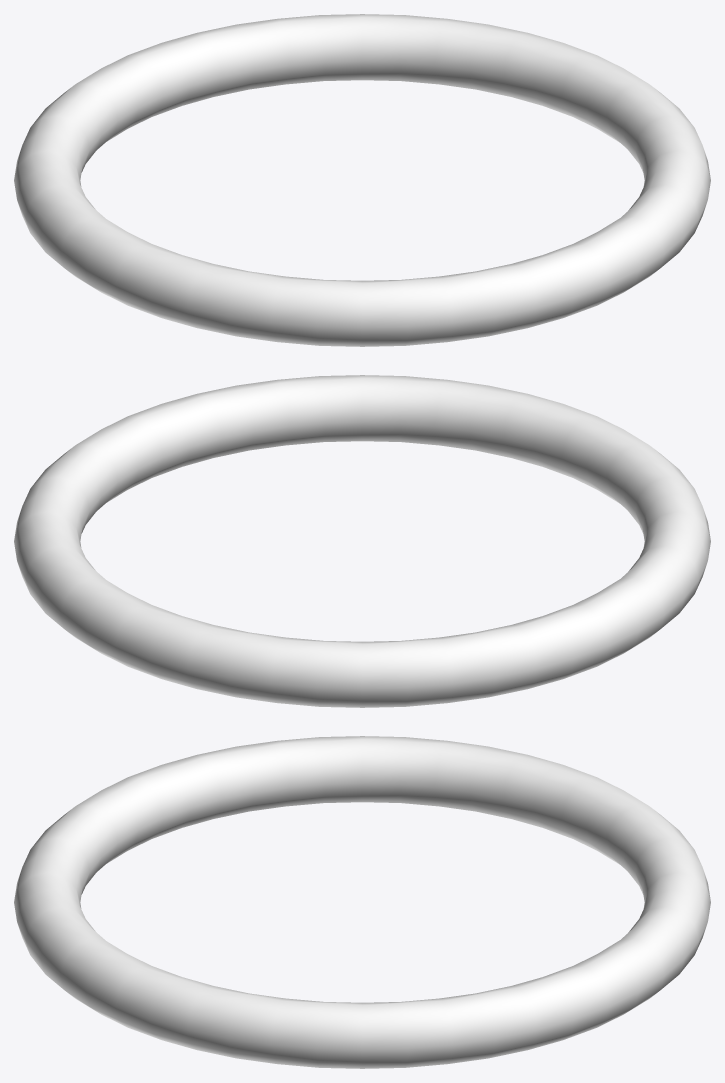
The model's file is ATB.fbx.
3 renders of one model, top to bottom at view 1: azimuth 30°, elevation 25°; view 2: azimuth 150°, elevation 25°; view 3: azimuth 270°, elevation 25°, orthographic.
Parts seen in each view (by area): view 1: Torus.002; view 2: Torus.002; view 3: Torus.002.
Part boxes in pixels (left/top/right/bottom): Torus.002: left=14, top=14, right=710, bottom=346; Torus.002: left=14, top=375, right=710, bottom=707; Torus.002: left=14, top=736, right=710, bottom=1068.
Bounding box in the file's own units: 221 × 21.05 × 221.
